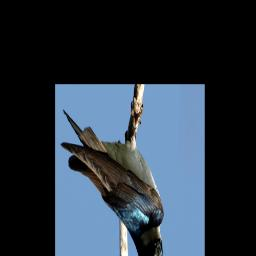Swallow: (59, 98, 164, 256)
